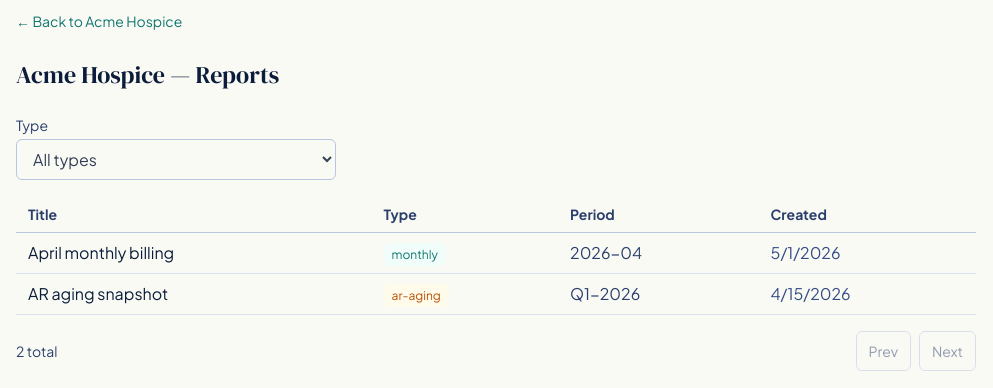
it: OrganizationReportsTab › selecting type=ar-aging filters the visible rows client-side
Expected: the heading "Acme Hospice — Reports" is shown, top-left (16, 58), bottom-right (279, 91)
Select "AR aging" in the dropdown named "filter by type" at (176, 160), box top-left (16, 139), bottom-right (336, 180)
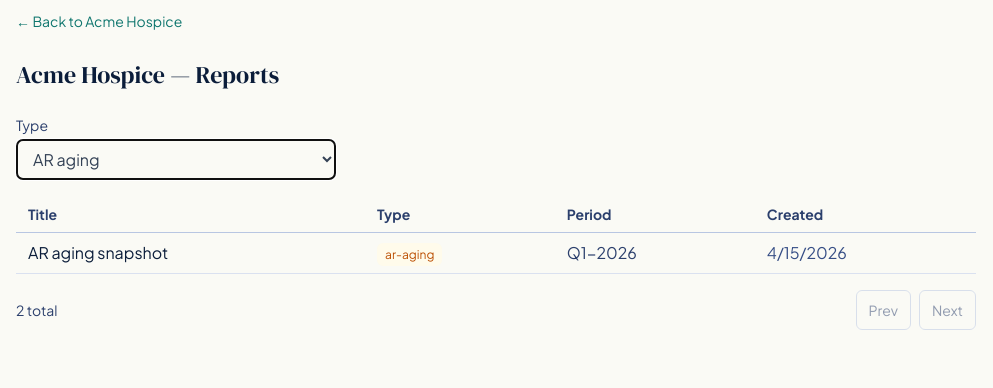
Expected: the text "April monthly billing" is gone
